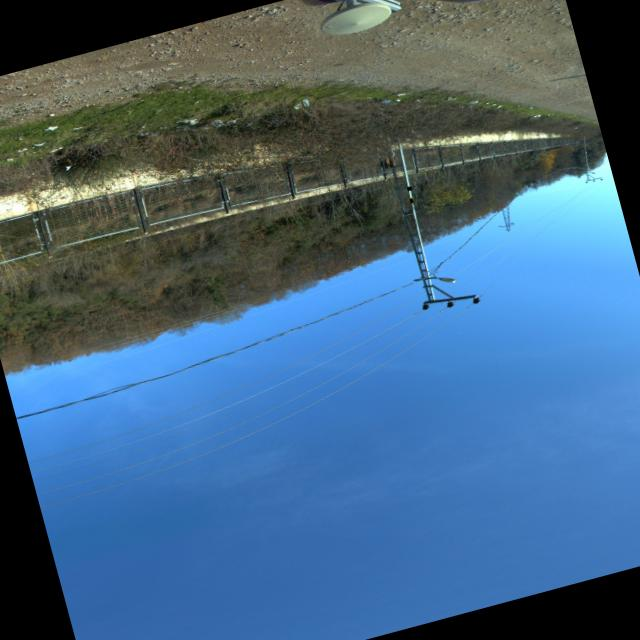Utility Pole Information Plate: (405, 185, 410, 190), (408, 197, 412, 202)
